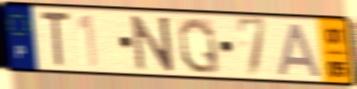1: (76, 14, 99, 69)
7: (235, 17, 269, 81)
A: (276, 22, 325, 79)
N: (129, 14, 177, 73)
Q: (176, 16, 223, 76)
T: (38, 9, 73, 69)
